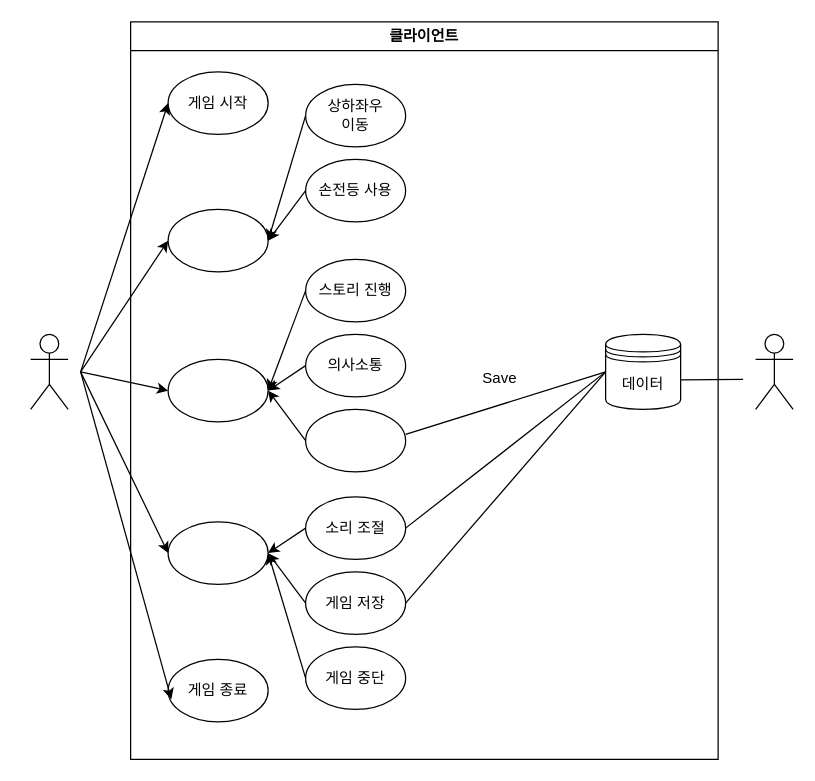
The diagram is 815 pixels wide and 781 high, and some of its shapes have lost their labels. The centre of each missing label's shape, as x and y in pixels:
"PC" goes at pixel 773 371.
"게임 설정" goes at pixel 217 552.
"조작" goes at pixel 217 240.
"증거 수집" goes at pixel 355 440.
"추리" goes at pixel 217 390.
"플레이어" goes at pixel 48 371.
